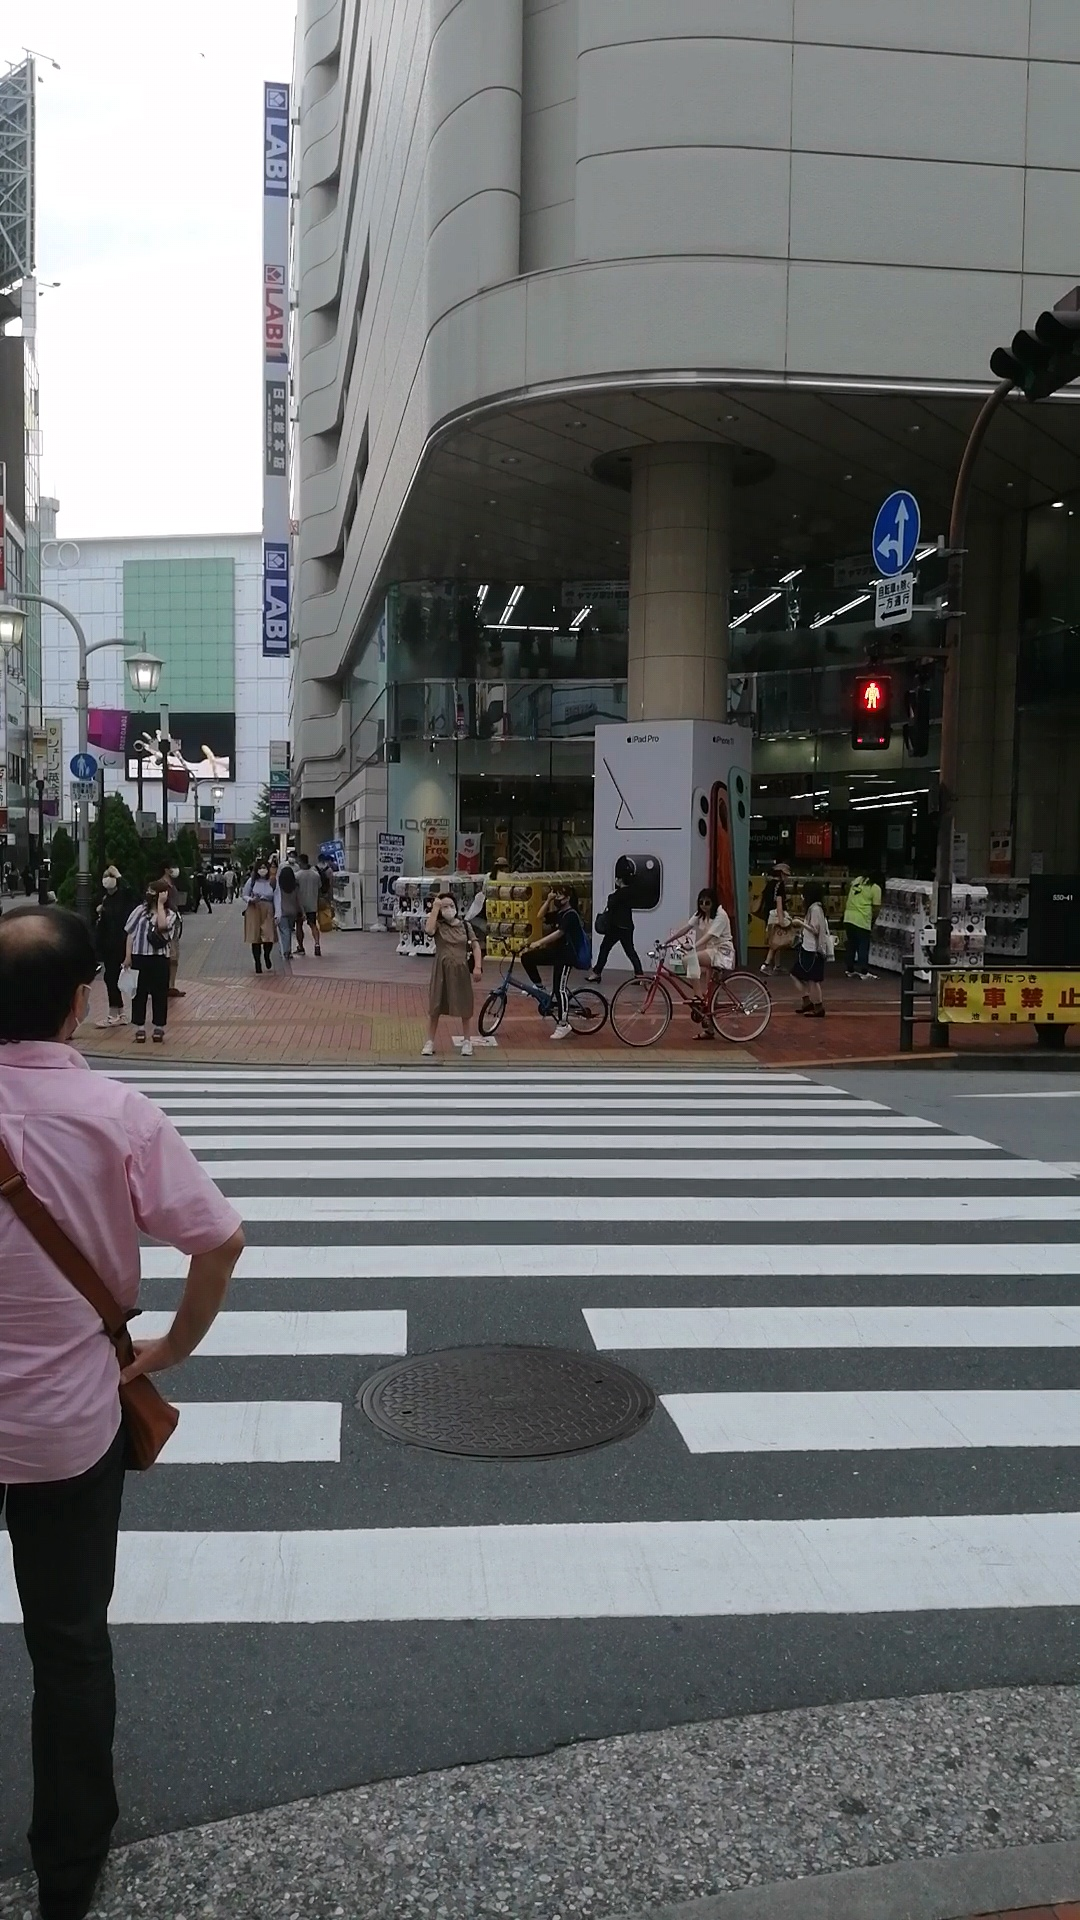red: (852, 675, 890, 750)
